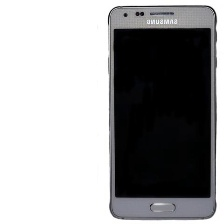phone: (102, 2, 219, 222)
